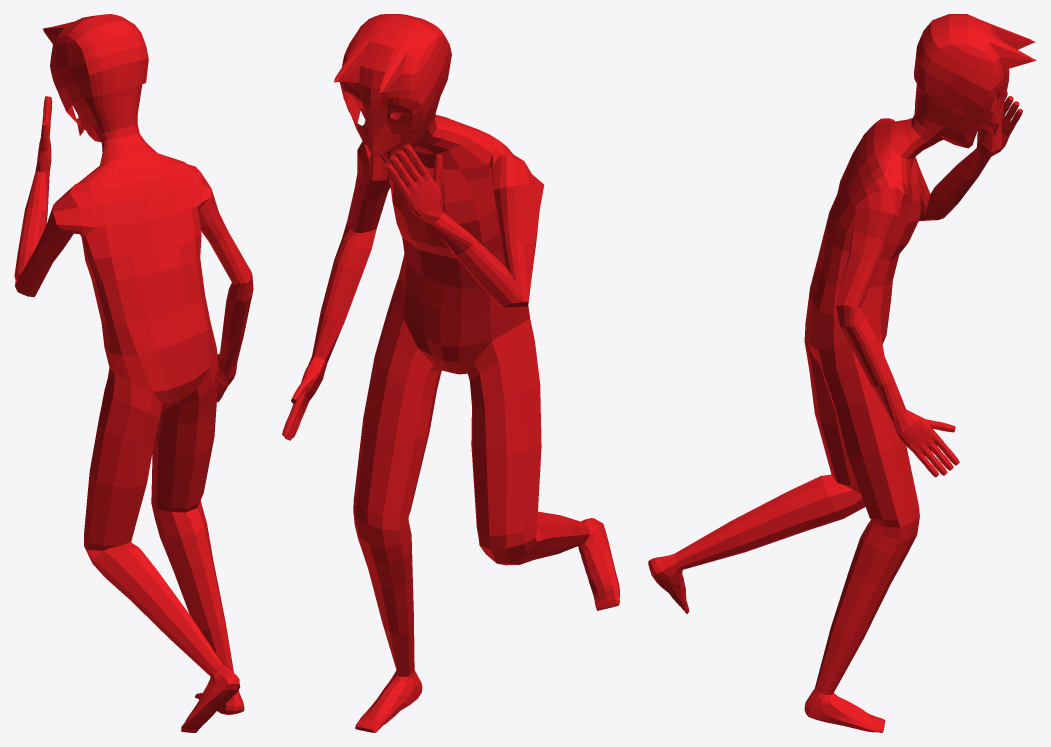
File: correrE_000102.obj
3 renders of one model, left to right at view 1: azimuth 30°, elevation 25°; view 2: azimuth 150°, elevation 25°; view 3: azimuth 270°, elevation 25°, orthographic. The views are drawn at different scales.
Visible parts, largest first — view 1: Plane.002_Plane.001; view 2: Plane.002_Plane.001; view 3: Plane.002_Plane.001.
Part boxes in pixels (x1,y1,x2,y2): Plane.002_Plane.001: (14, 14, 253, 732); Plane.002_Plane.001: (282, 14, 619, 732); Plane.002_Plane.001: (648, 14, 1036, 732).
Bounding box in the file's own units: 2.18 × 6.7 × 3.49.
